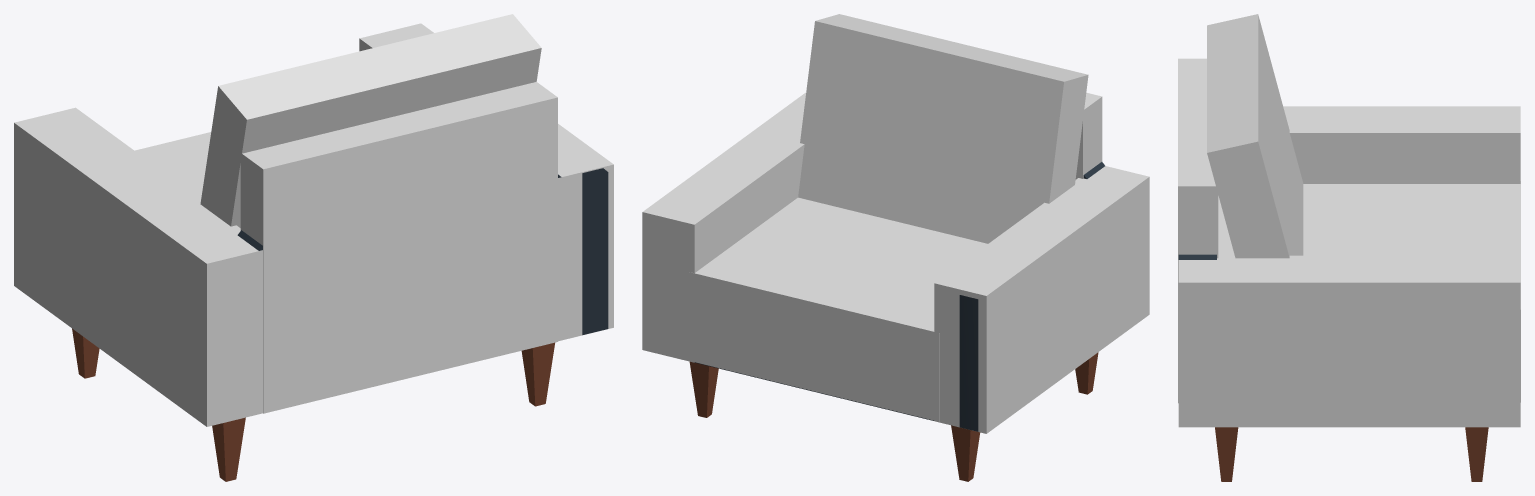
Rendered from Armchair.fbx.
3 views of the same model, side by side, from view 1: azimuth 30°, elevation 25°; view 2: azimuth 150°, elevation 25°; view 3: azimuth 270°, elevation 25° (orthographic). The views are drawn at different scales.
Parts seen in each view (by area): view 1: Cube.003, Cube.001, Cube.004, Cube, Armchair, Cube.002, Armchair.003, Armchair.004; view 2: Cube.004, Cube.002, Cube.001, Cube, Armchair, Cube.003, Armchair.002, Armchair.003; view 3: Cube, Cube.004, Cube.001, Cube.002, Cube.003, Armchair.
Part boxes in pixels (left/top/right/bottom): Cube.003: left=240, top=82, right=557, bottom=413; Cube.001: left=14, top=107, right=262, bottom=426; Cube.004: left=200, top=14, right=541, bottom=227; Cube: left=359, top=23, right=613, bottom=341; Armchair: left=75, top=168, right=608, bottom=479; Cube.002: left=135, top=132, right=211, bottom=198; Armchair.003: left=212, top=418, right=245, bottom=481; Armchair.004: left=521, top=342, right=554, bottom=406; Cube.004: left=798, top=14, right=1088, bottom=243; Cube.002: left=689, top=197, right=987, bottom=421; Cube.001: left=934, top=166, right=1149, bottom=433; Cube: left=642, top=92, right=805, bottom=362; Armchair: left=689, top=162, right=1104, bottom=479; Cube.003: left=1075, top=92, right=1102, bottom=179; Armchair.002: left=956, top=429, right=979, bottom=481; Armchair.003: left=1075, top=352, right=1098, bottom=394; Cube: left=1178, top=255, right=1520, bottom=427; Cube.004: left=1207, top=14, right=1303, bottom=258; Cube.001: left=1283, top=106, right=1520, bottom=183; Cube.002: left=1218, top=181, right=1520, bottom=402; Cube.003: left=1178, top=58, right=1218, bottom=403; Armchair: left=1178, top=254, right=1488, bottom=481.
Size of the model in its own units: 0.7683 by 0.6812 by 0.6314.
